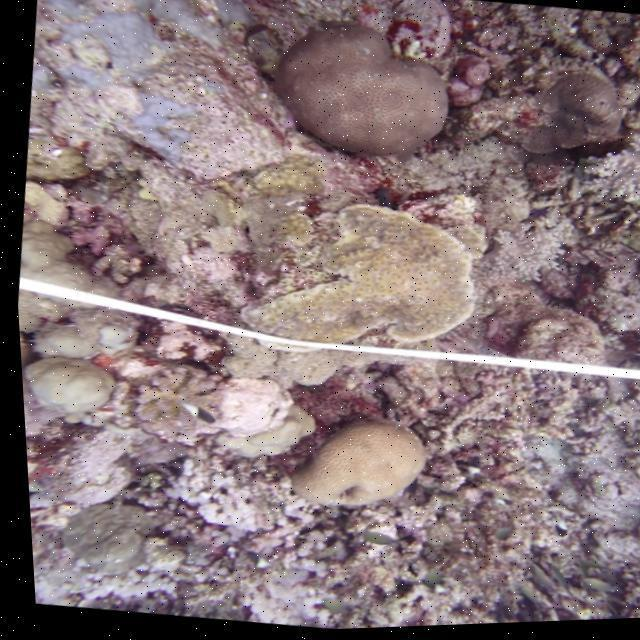Bleached Coral: (121, 445, 351, 637), (472, 178, 575, 302), (182, 357, 280, 450), (559, 132, 640, 230)
